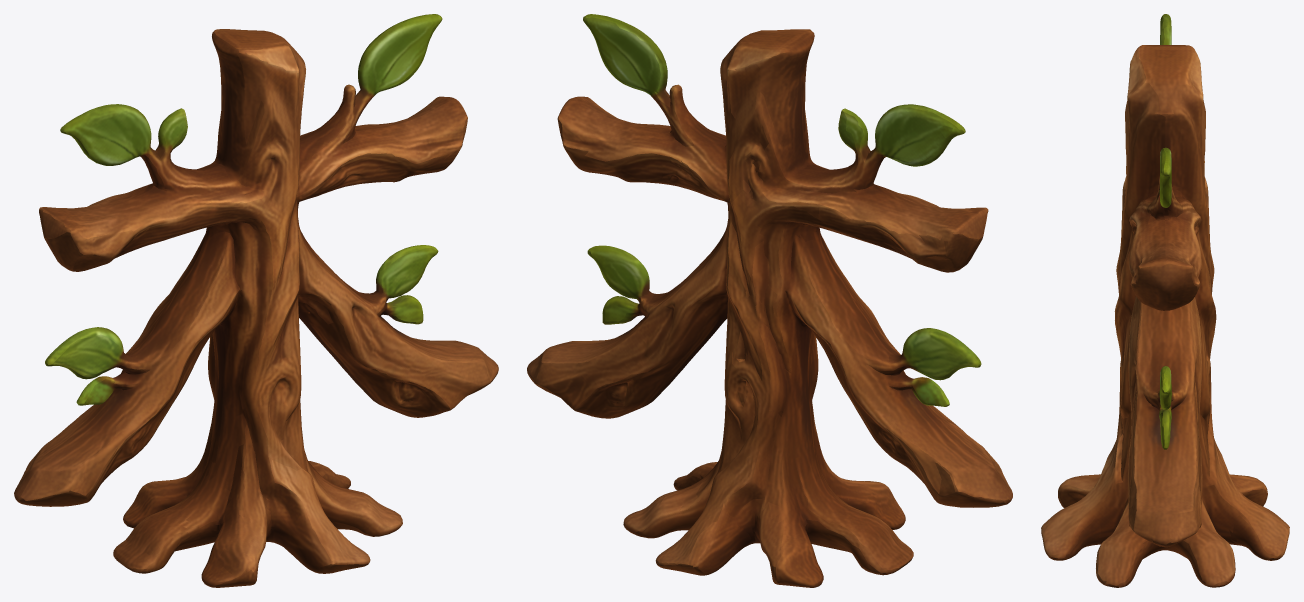
3 views of the same model, side by side, from view 1: azimuth 30°, elevation 25°; view 2: azimuth 150°, elevation 25°; view 3: azimuth 270°, elevation 25° (orthographic). The views are drawn at different scales.
Parts seen in each view (by area): view 1: world; view 2: world; view 3: world.
Boxes of the visible parts, x1,y1,x2,y2 form: world: [14, 14, 498, 587]; world: [527, 14, 1012, 587]; world: [1041, 14, 1289, 587].
Size of the model in its own units: 0.4 by 0.4 by 0.1885.
Materials: 1 (1 with a texture image).
